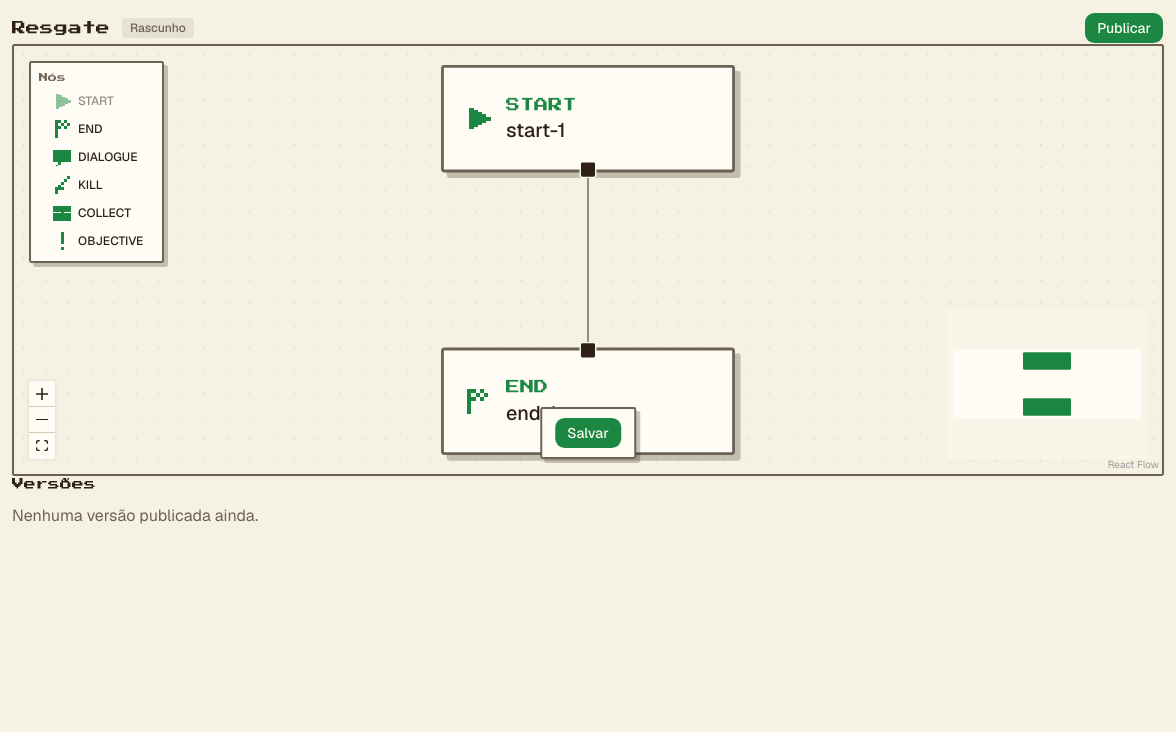
Test case: MissionView › disables publish while the editor is dirty
The width and height of the screenshot is (1176, 732).
Expected: the button with test id "publish-button" is enabled, [1084,12,1164,44]
What coordinates should you click on to do the following:
click the button with test id "palette-OBJECTIVE"
I would click on:
 (97, 240)
Its box is [39,228,154,252].
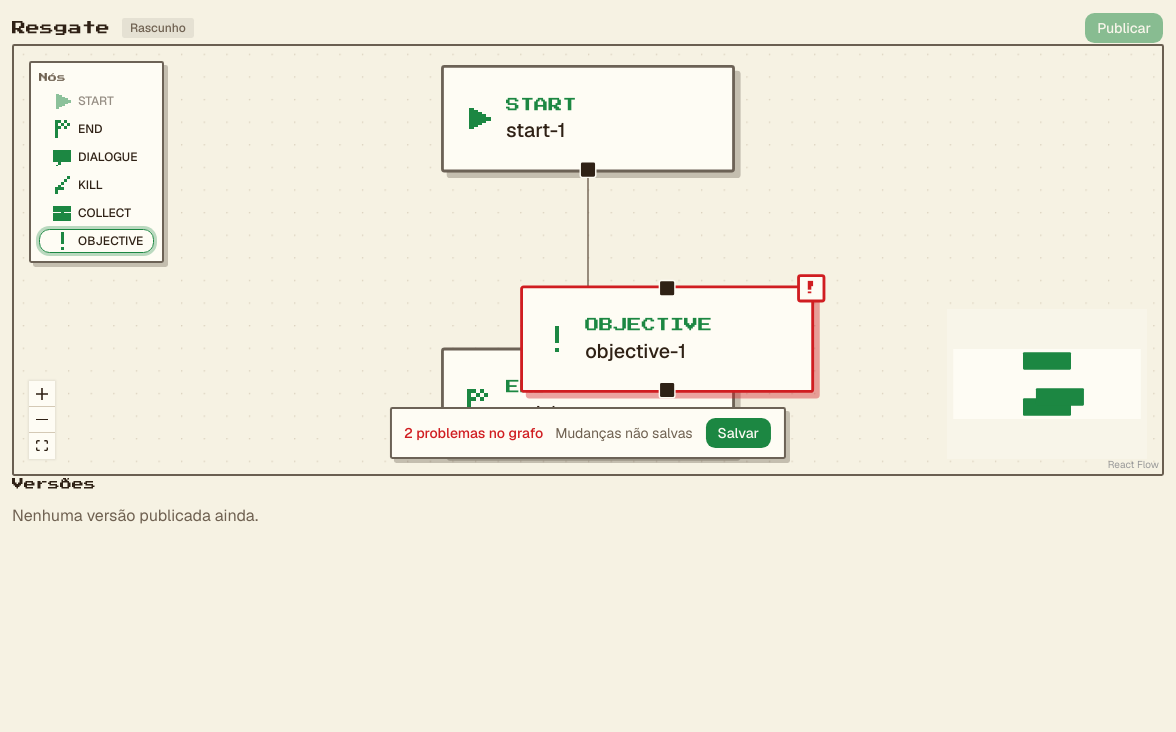
Expected: the button with test id "publish-button" is disabled, [1084,12,1164,44]
